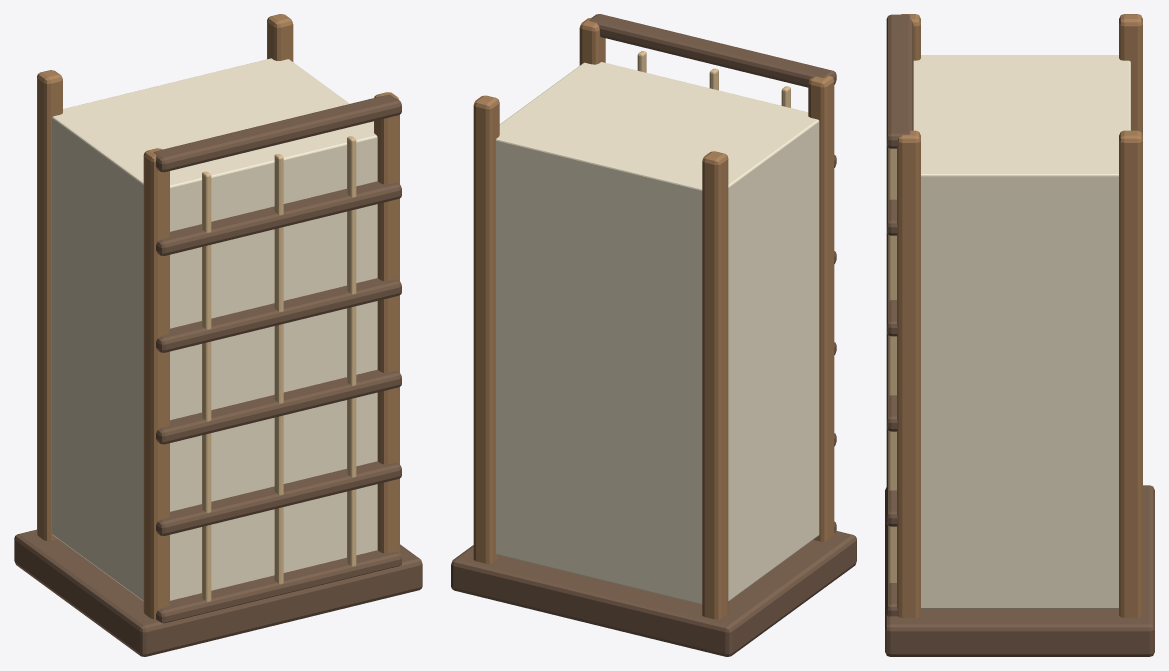
File: stage_andon.glb
The picture shows the model from 3 angles, left to right: view 1: azimuth 30°, elevation 25°; view 2: azimuth 150°, elevation 25°; view 3: azimuth 270°, elevation 25°; orthographic projection. The views are drawn at different scales.
Parts seen in each view (by area): view 1: Andon glowing shoji paper, Andon wooden base, Corner architectural bamboo, Corner architectural bamboo.002, Corner architectural bamboo.001, Andon traditional horizontal crossbeams.005, Andon traditional horizontal crossbeams.004, Andon traditional horizontal crossbeams.001, Andon traditional horizontal crossbeams.003, Andon traditional horizontal crossbeams.002, Andon traditional horizontal crossbeams, Andon inner mullion.002 (+3 smaller); view 2: Andon glowing shoji paper, Andon wooden base, Corner architectural bamboo.001, Corner architectural bamboo.003, Corner architectural bamboo, Andon traditional horizontal crossbeams.005, Corner architectural bamboo.002; view 3: Andon glowing shoji paper, Andon wooden base, Corner architectural bamboo.003, Corner architectural bamboo.002, Andon traditional horizontal crossbeams.005, Andon inner mullion.002, Corner architectural bamboo.001, Andon traditional horizontal crossbeams.003, Andon traditional horizontal crossbeams.002, Andon traditional horizontal crossbeams.001, Andon traditional horizontal crossbeams.004, Andon traditional horizontal crossbeams.
Part boxes in pixels (x1,y1,x2,y2): Andon glowing shoji paper: [52, 58, 377, 601]; Andon wooden base: [14, 529, 422, 656]; Corner architectural bamboo: [143, 148, 169, 619]; Corner architectural bamboo.002: [374, 92, 399, 553]; Corner architectural bamboo.001: [37, 70, 62, 540]; Andon traditional horizontal crossbeams.005: [153, 94, 401, 172]; Andon traditional horizontal crossbeams.004: [156, 181, 401, 255]; Andon traditional horizontal crossbeams.001: [156, 461, 401, 535]; Andon traditional horizontal crossbeams.003: [156, 278, 401, 352]; Andon traditional horizontal crossbeams.002: [156, 369, 401, 444]; Andon traditional horizontal crossbeams: [156, 550, 401, 623]; Andon inner mullion.002: [347, 136, 356, 566]; Andon glowing shoji paper: [496, 62, 819, 604]; Andon wooden base: [451, 531, 856, 656]; Corner architectural bamboo.001: [702, 151, 728, 619]; Corner architectural bamboo.003: [473, 95, 499, 563]; Corner architectural bamboo: [808, 75, 834, 541]; Andon traditional horizontal crossbeams.005: [589, 14, 836, 87]; Corner architectural bamboo.002: [579, 17, 605, 65]; Andon glowing shoji paper: [913, 55, 1130, 608]; Andon wooden base: [885, 485, 1154, 656]; Corner architectural bamboo.003: [1119, 130, 1142, 617]; Corner architectural bamboo.002: [897, 130, 920, 617]; Andon traditional horizontal crossbeams.005: [886, 14, 913, 148]; Andon inner mullion.002: [888, 148, 896, 583]; Corner architectural bamboo.001: [1119, 14, 1142, 134]; Andon traditional horizontal crossbeams.003: [886, 232, 897, 336]; Andon traditional horizontal crossbeams.002: [886, 332, 897, 431]; Andon traditional horizontal crossbeams.001: [886, 428, 897, 526]; Andon traditional horizontal crossbeams.004: [886, 145, 897, 235]; Andon traditional horizontal crossbeams: [886, 523, 897, 616].
Size of the model in its own units: 1.17 by 1.95 by 0.9298.
